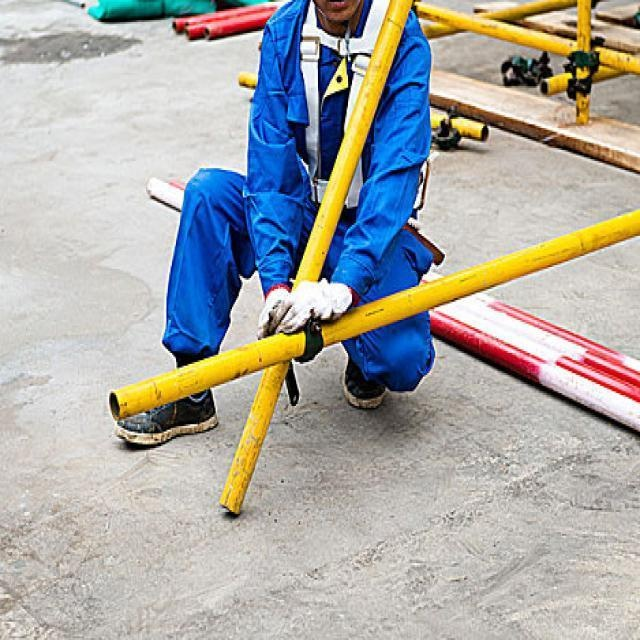Arnes_seguridad: (281, 0, 396, 212)
